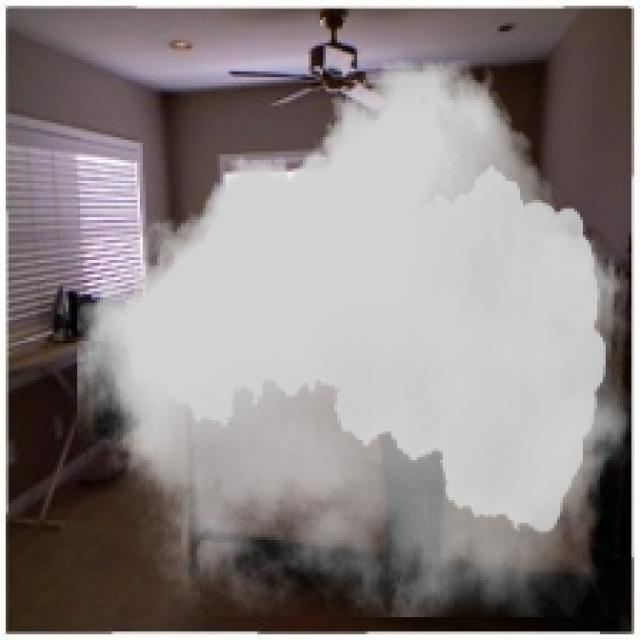Smoke: (77, 60, 632, 617)
